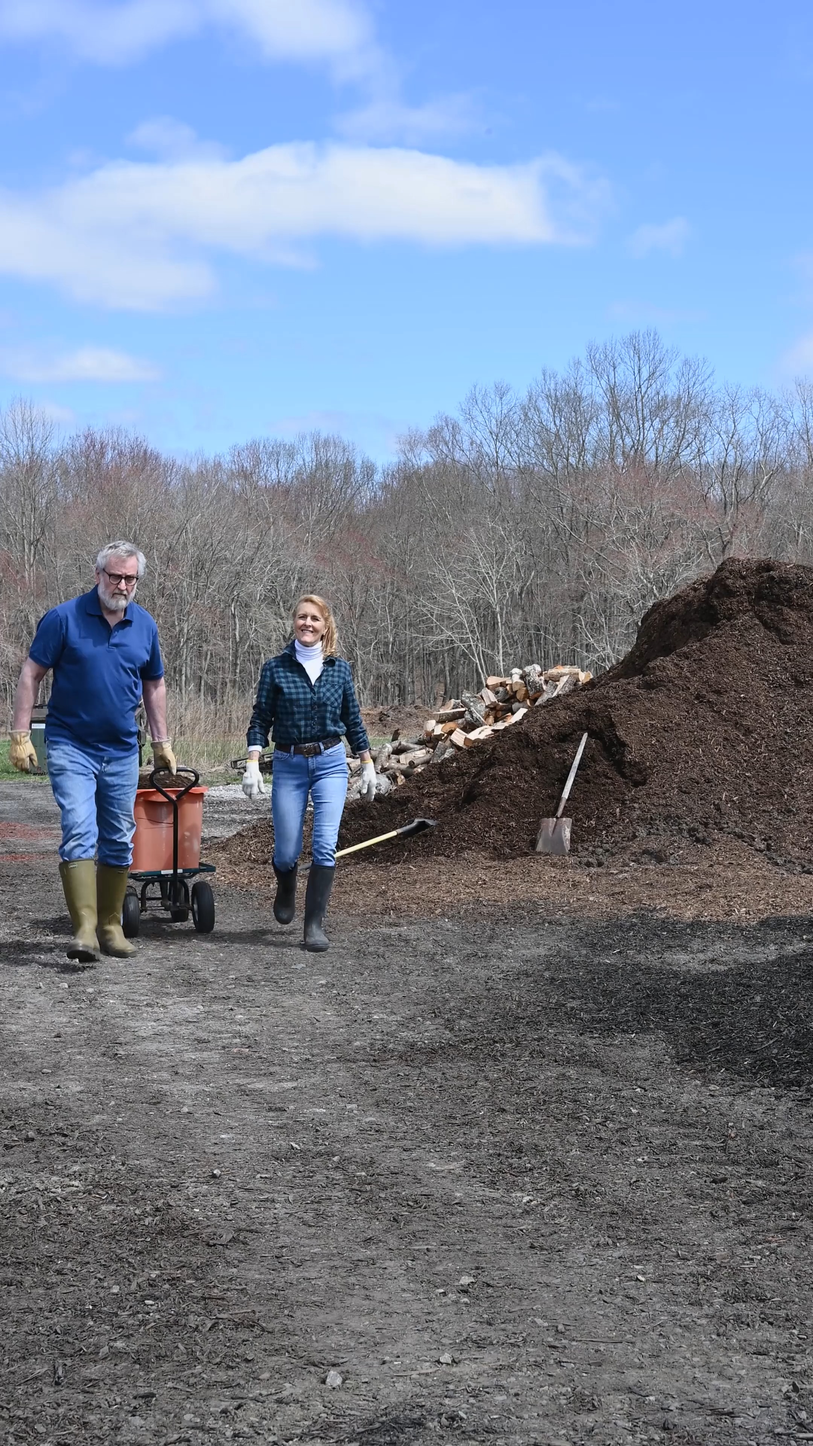gloves: (336, 761, 412, 806), (139, 727, 193, 782), (4, 721, 47, 776), (231, 757, 276, 808)
